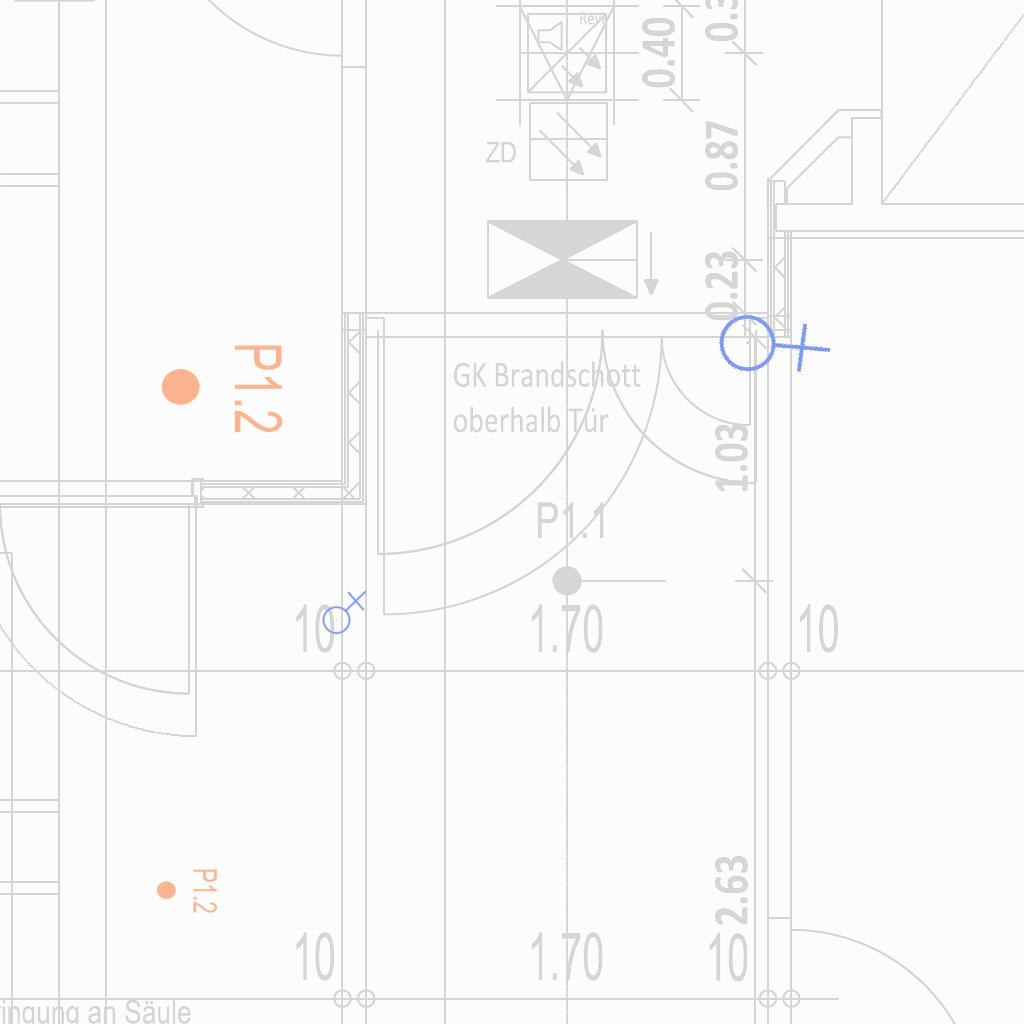Downlight_LED_Einbauleuchten_Flur: (158, 342, 286, 435), (155, 868, 219, 914)
Elektroanschluss_allgemein_230V_Geraeteanschlussdose_230V: (700, 272, 837, 410), (318, 588, 367, 635)
